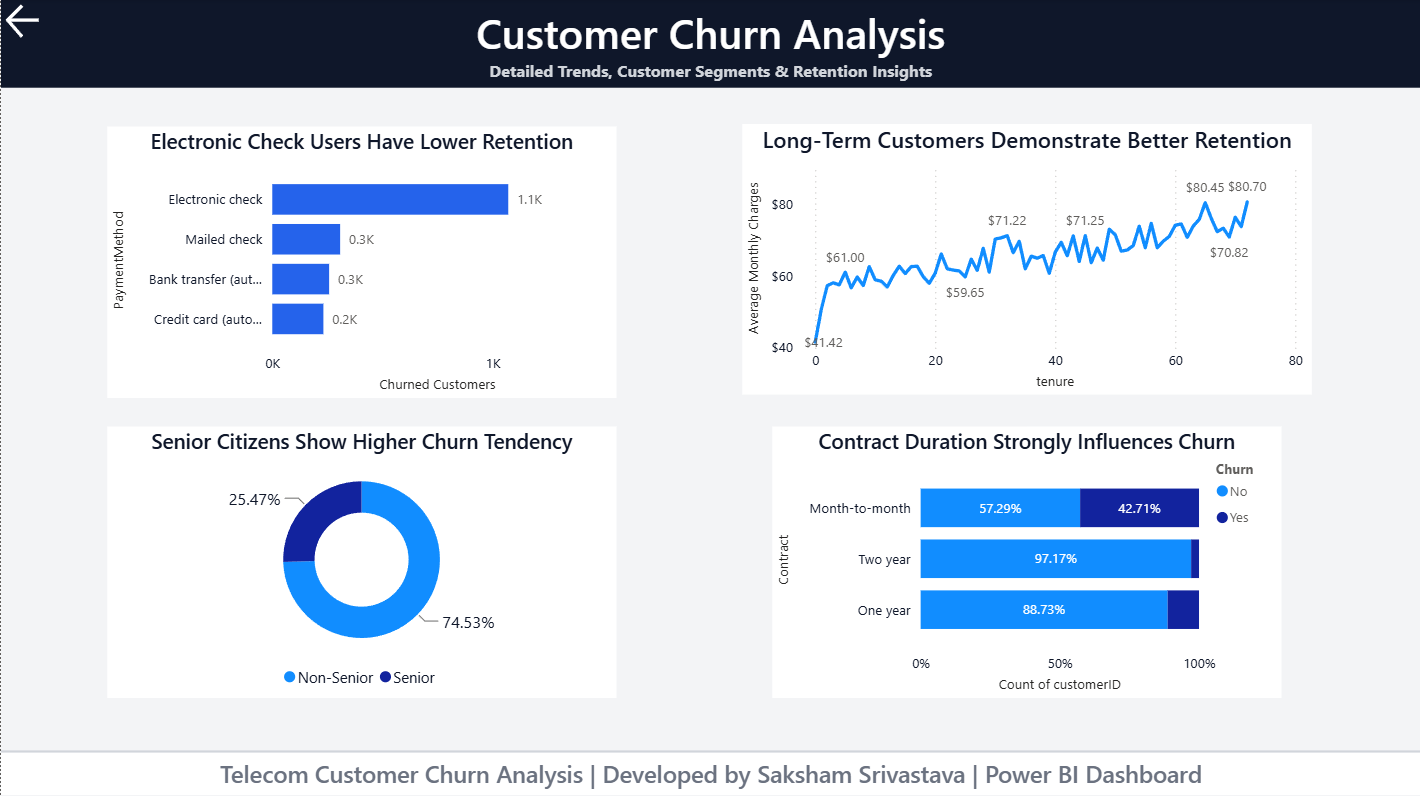

This screenshot's page, from the dashboard's own definition file:
{"tool":"powerbi","page":{"name":"Customer Churn Analysis","canvas":[1280,720],"ordinal":1},"visuals":[{"type":"shape","box":[0,0,1280.4,80],"z":0},{"type":"textbox","box":[0,0,1280,79.6],"z":1000},{"type":"barChart","title":"Electronic Check Users Have Lower Retention","fields":{"Category":["Customer_churn.PaymentMethod"],"Y":["Customer_churn.Churned Customers"]},"box":[95.8,114.4,459,245.1],"z":2000},{"type":"lineChart","title":"Long-Term Customers Demonstrate Better Retention","fields":{"Category":["Customer_churn.tenure"],"Y":["Customer_churn.Average Monthly Charges"]},"box":[668.4,112.8,513.8,244.4],"z":3000},{"type":"donutChart","title":"Senior Citizens Show Higher Churn Tendency","fields":{"Category":["Customer_churn.Senior Citizen Status"],"Y":["Customer_churn.Churned Customers"]},"box":[95.8,385.6,459,245.1],"z":4000},{"type":"hundredPercentStackedBarChart","title":"Contract Duration Strongly Influences Churn","fields":{"Category":["Customer_churn.Contract"],"Series":["Customer_churn.Churn"],"Y":["CountNonNull(Customer_churn.customerID)"]},"box":[695.4,385.6,459,245.1],"z":5000},{"type":"textbox","box":[0,678.9,1280.4,39],"z":6000},{"type":"shape","box":[0,671.4,1280.3,13.5],"z":7000},{"type":"actionButton","box":[0,0,100,40],"z":8000}]}

Visuals, with their boxes in screenshot pixels (x1, y1, x2, y2), scaled from the page's 1280x720 canvas onto the 1420x796 screenshot:
shape: [0, 0, 1419, 88]
textbox: [0, 0, 1419, 88]
"Electronic Check Users Have Lower Retention" barChart: [106, 126, 615, 397]
"Long-Term Customers Demonstrate Better Retention" lineChart: [742, 125, 1312, 395]
"Senior Citizens Show Higher Churn Tendency" donutChart: [106, 426, 615, 697]
"Contract Duration Strongly Influences Churn" hundredPercentStackedBarChart: [771, 426, 1281, 697]
textbox: [0, 751, 1419, 794]
shape: [0, 742, 1419, 757]
actionButton: [0, 0, 111, 44]
